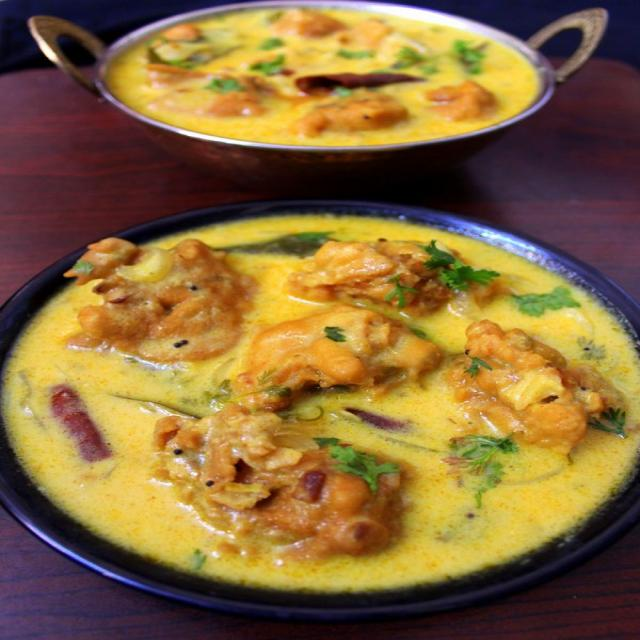Kadhi Pakora: (5, 211, 640, 591), (101, 0, 546, 143)
